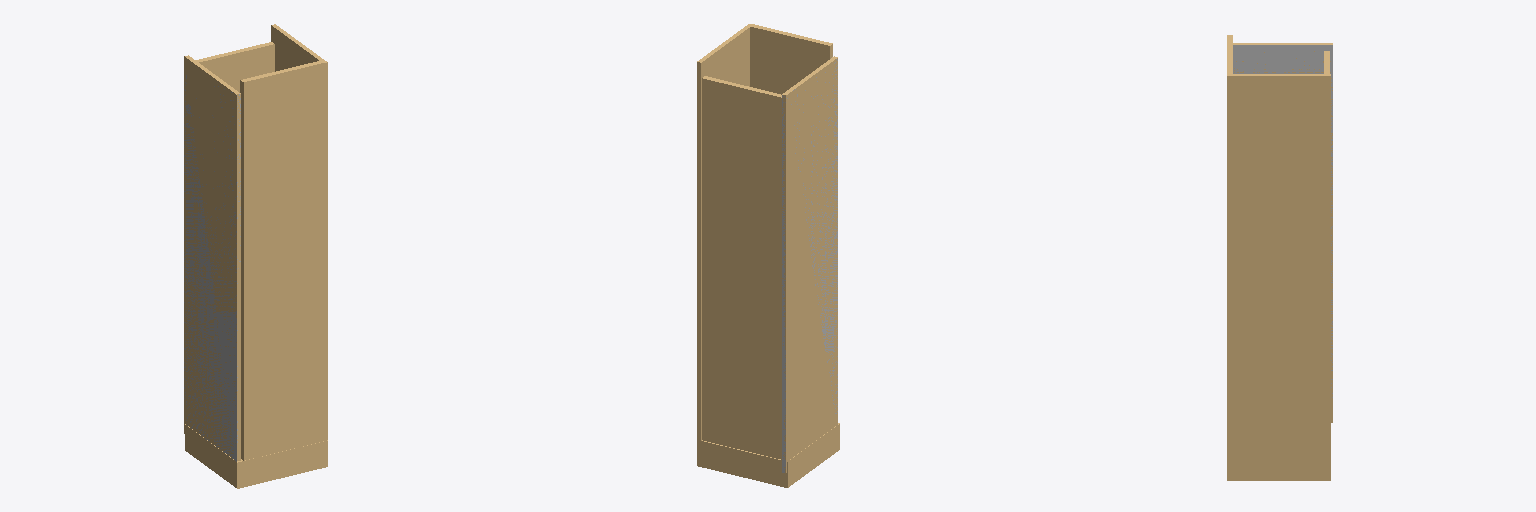
Rendered from chute2.obj.
3 renders of one model, left to right at view 1: azimuth 30°, elevation 25°; view 2: azimuth 150°, elevation 25°; view 3: azimuth 270°, elevation 25°, orthographic.
Parts seen in each view (by area): view 1: Cube_Cube.001, Cube.003_Cube.004; view 2: Cube_Cube.001, Cube.003_Cube.004; view 3: Cube_Cube.001, Cube.003_Cube.004.
Part boxes in pixels (x1,y1,x2,y2): Cube_Cube.001: (184, 24, 327, 488); Cube.003_Cube.004: (184, 75, 240, 461); Cube_Cube.001: (697, 24, 839, 487); Cube.003_Cube.004: (782, 59, 837, 472); Cube_Cube.001: (1227, 35, 1332, 480); Cube.003_Cube.004: (1233, 45, 1332, 397).
Bounding box in the file's own units: 17.3 × 74.03 × 17.69.